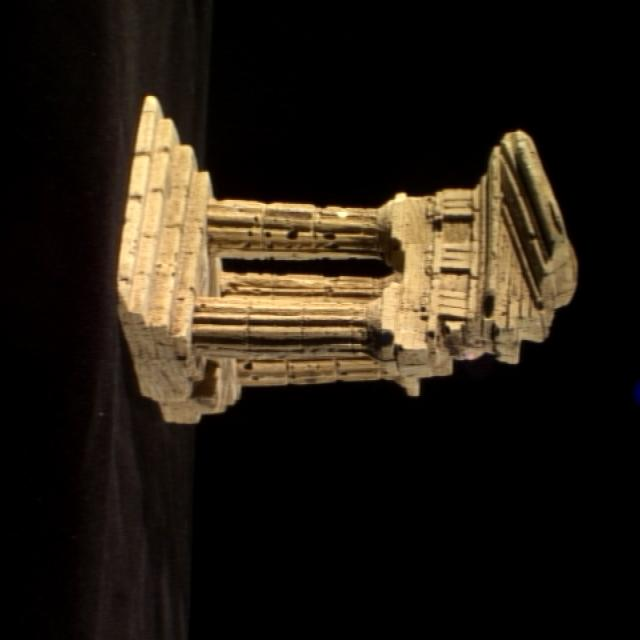Instance-Segmentation: (118, 96, 576, 423)
